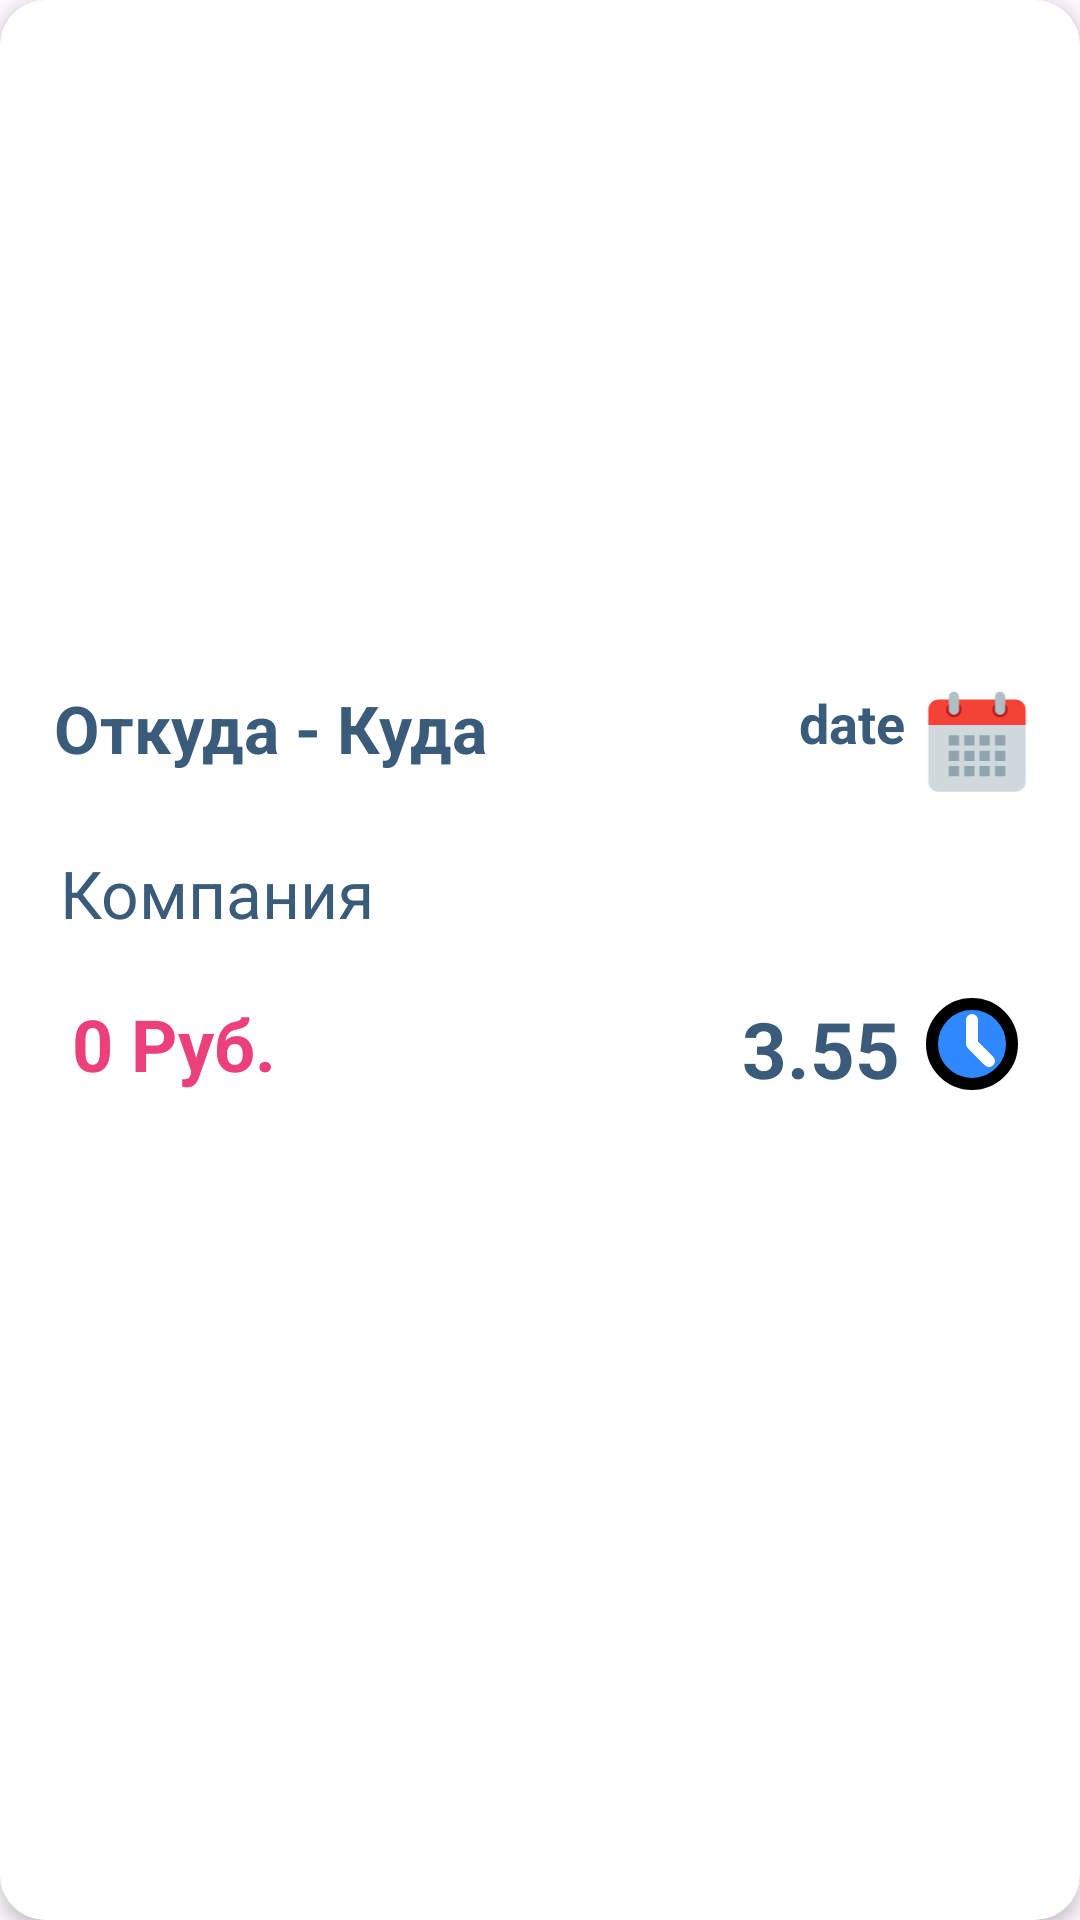

Named icons in this screenshot (1080×1920) and their centers, point (x, y):
calendar: point (977, 742)
park time: point (972, 1044)
